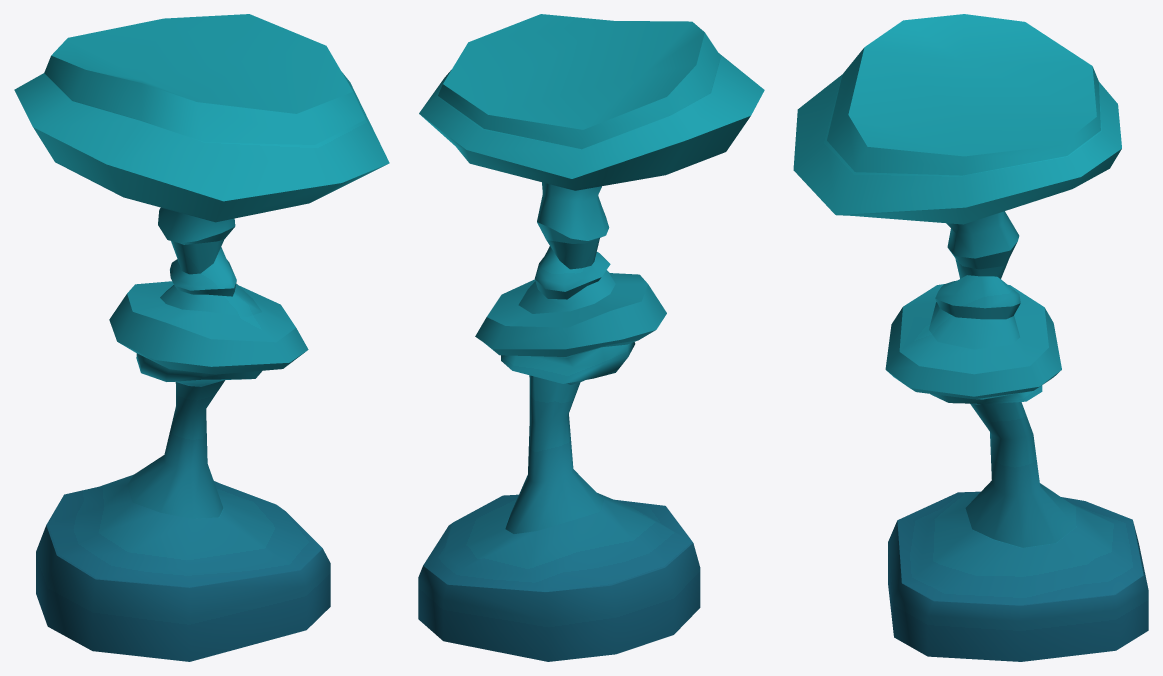
Rendered from RockI.fbx.
3 views of the same model, side by side, from view 1: azimuth 30°, elevation 25°; view 2: azimuth 150°, elevation 25°; view 3: azimuth 270°, elevation 25° (orthographic). The views are drawn at different scales.
Parts seen in each view (by area): view 1: RockI; view 2: RockI; view 3: RockI.
Part boxes in pixels (x1,y1,x2,y2): RockI: [14, 14, 389, 661]; RockI: [418, 14, 764, 661]; RockI: [793, 14, 1148, 661].
Size of the model in its own units: 379 by 657 by 389.
Materials: 1 (1 with a texture image).
